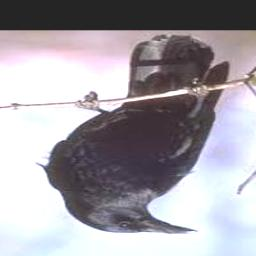Crow: (36, 35, 229, 235)
